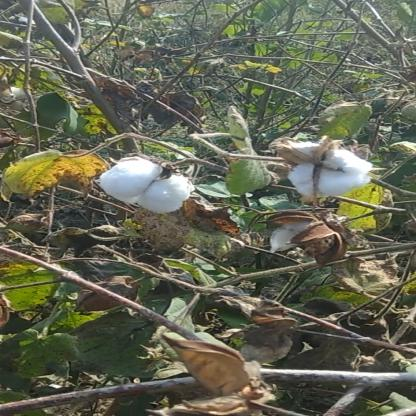cotton_ready: (256, 134, 382, 212), (79, 149, 209, 217)
